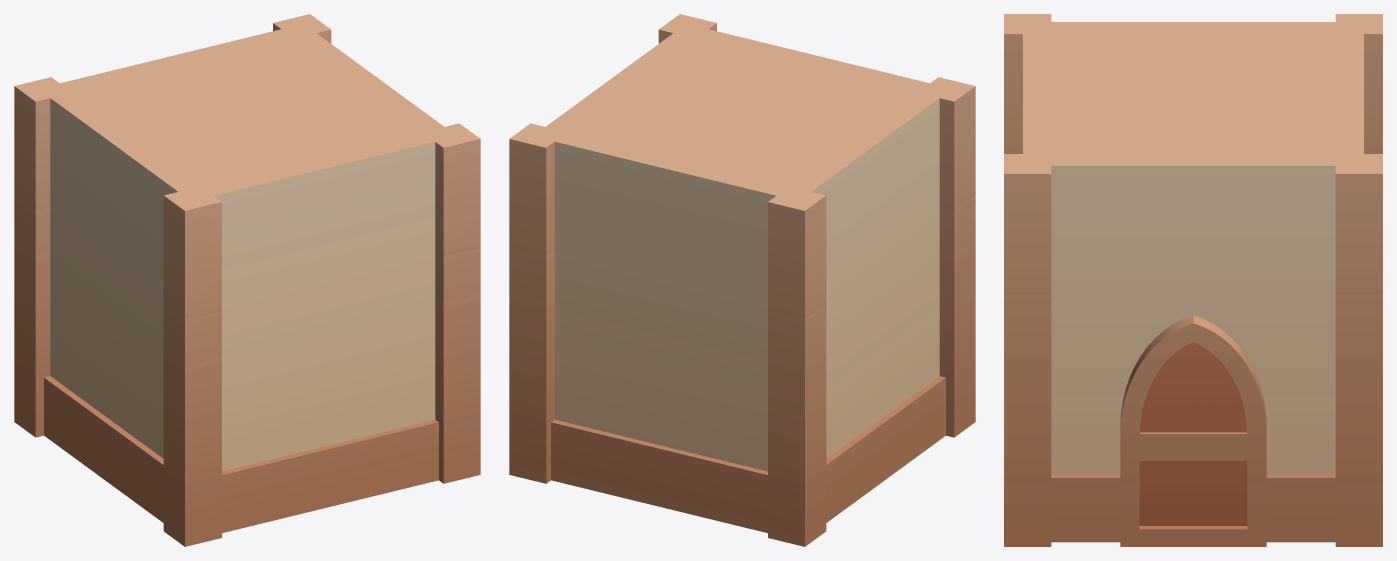
File: tower-square-mid-door.glb
3 views of the same model, side by side, from view 1: azimuth 30°, elevation 25°; view 2: azimuth 150°, elevation 25°; view 3: azimuth 270°, elevation 25° (orthographic). The views are drawn at different scales.
Parts seen in each view (by area): view 1: tower-square-mid-door; view 2: tower-square-mid-door; view 3: tower-square-mid-door.
Part boxes in pixels (box(x1,y1,x2,y2)): tower-square-mid-door: box(14, 14, 480, 546); tower-square-mid-door: box(509, 14, 975, 546); tower-square-mid-door: box(1004, 14, 1382, 546).
Bounding box in the file's own units: 0.93 × 1.01 × 0.93.
1 material, 1 textured.
